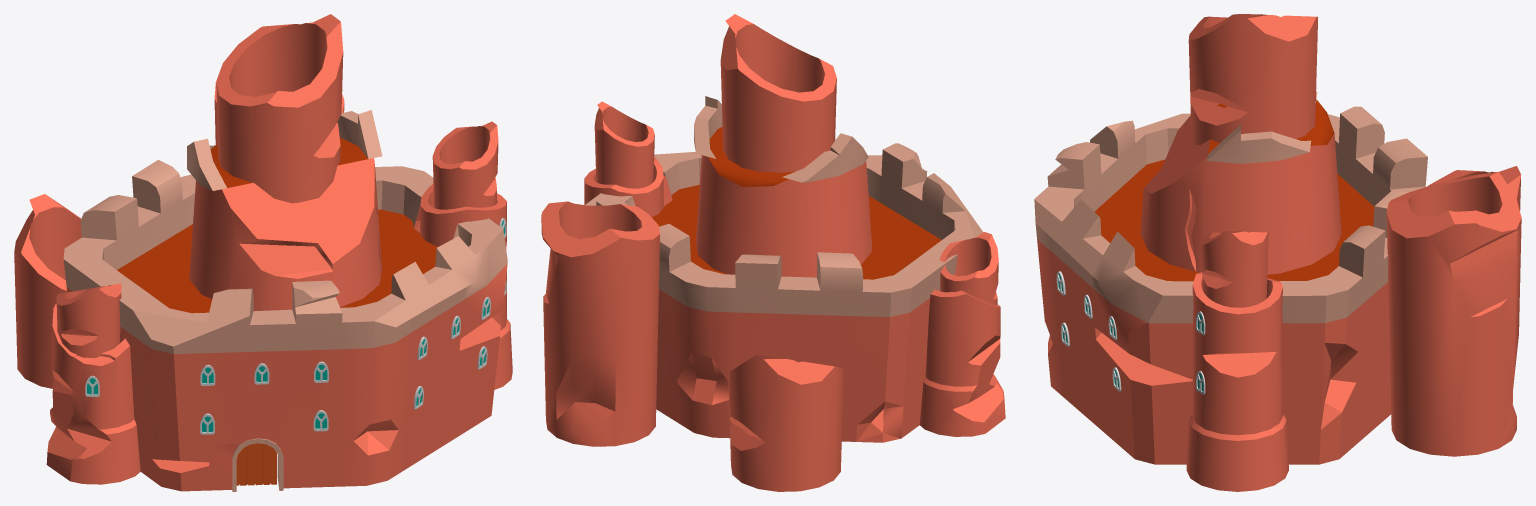
File: Big_Castle_UpgradeDouble_Stage3.fbx
3 views of the same model, side by side, from view 1: azimuth 30°, elevation 25°; view 2: azimuth 150°, elevation 25°; view 3: azimuth 270°, elevation 25° (orthographic). The views are drawn at different scales.
Visible parts, largest first — view 1: Big_Castle_UpgradeDouble_Stage3; view 2: Big_Castle_UpgradeDouble_Stage3; view 3: Big_Castle_UpgradeDouble_Stage3.
Part boxes in pixels (box(x1,y1,x2,y2)): Big_Castle_UpgradeDouble_Stage3: box(14, 14, 512, 491); Big_Castle_UpgradeDouble_Stage3: box(541, 14, 1005, 491); Big_Castle_UpgradeDouble_Stage3: box(1034, 14, 1521, 491).
Bounding box in the file's own units: 901 × 734 × 819.
Materials: 1 (1 with a texture image).
